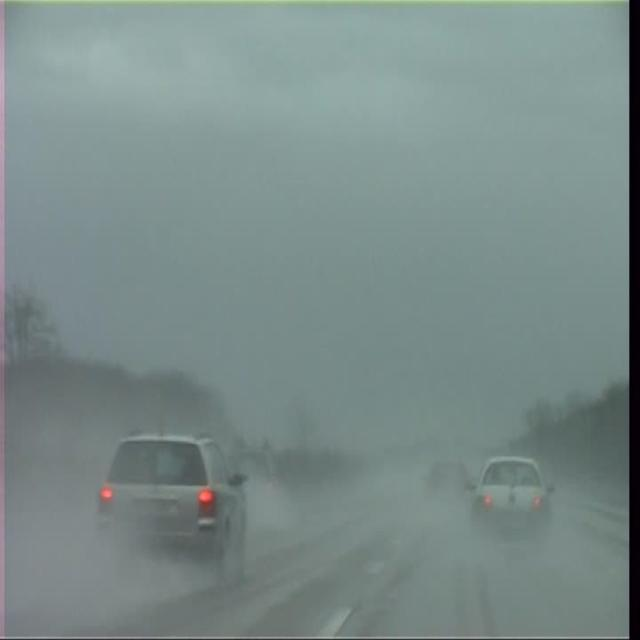car: (92, 434, 250, 570), (471, 456, 551, 519), (420, 457, 475, 503)
